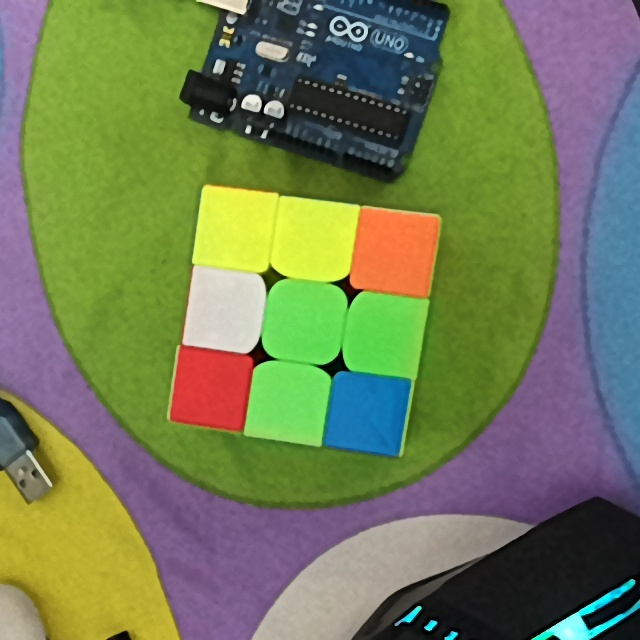tile: (362, 214, 428, 286), (357, 299, 417, 369), (277, 287, 337, 357), (283, 205, 345, 271), (180, 356, 243, 420), (194, 276, 254, 342), (338, 380, 398, 446), (202, 197, 263, 261), (258, 371, 318, 434)
